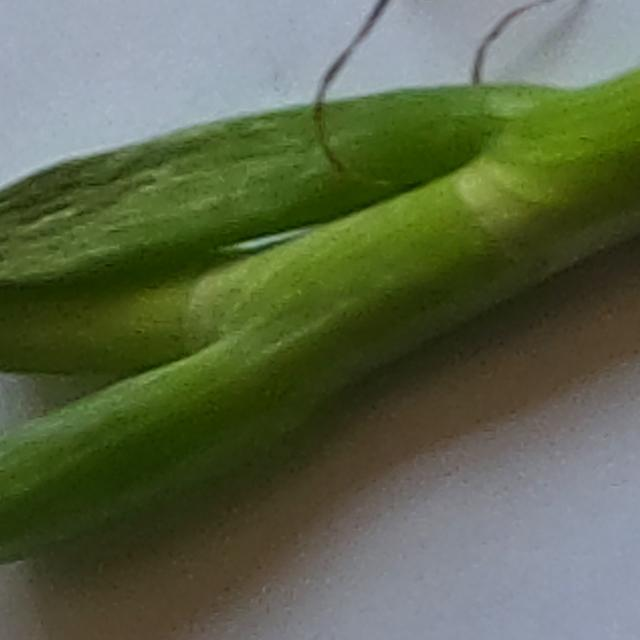green_onion: (0, 69, 640, 575)
